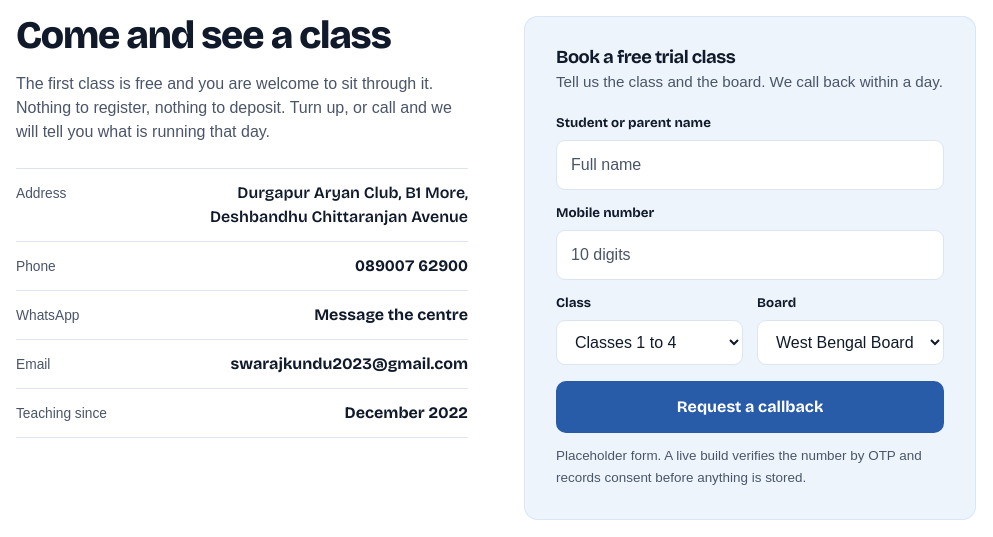
it: VisitAndEnquire › rejects a number shorter than ten digits
In the field labelled "Student or parent name": (750, 165) 556,140 -> 944,190, type "Test Parent"
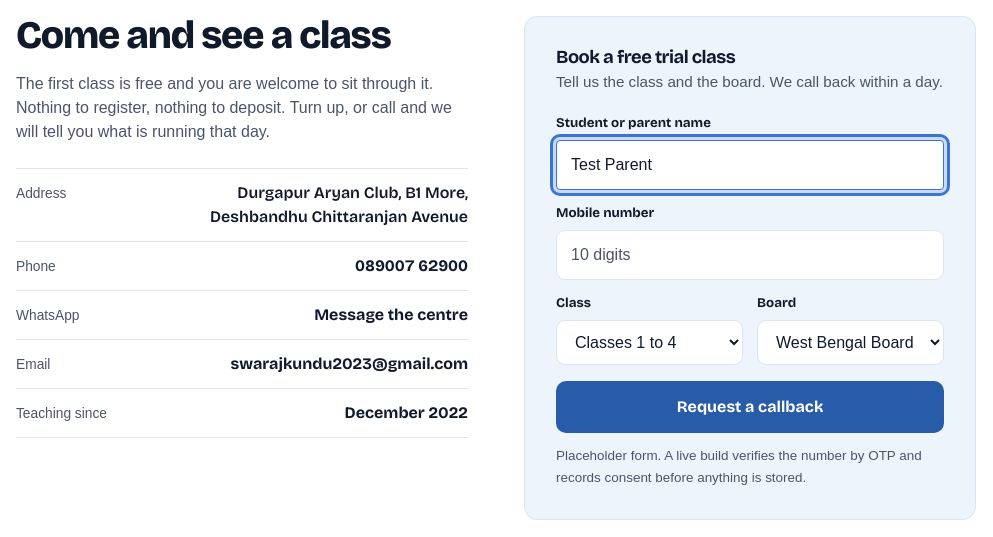
In the field labelled "Mobile number": (750, 255) 556,230 -> 944,280, type "12345"
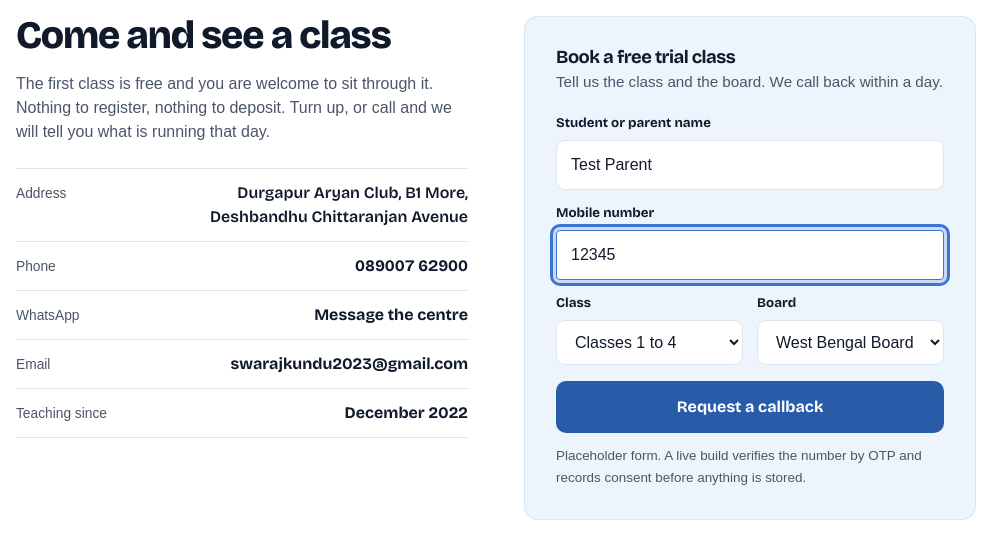
Click the button "Request a callback": (750, 407) 556,381 -> 944,433
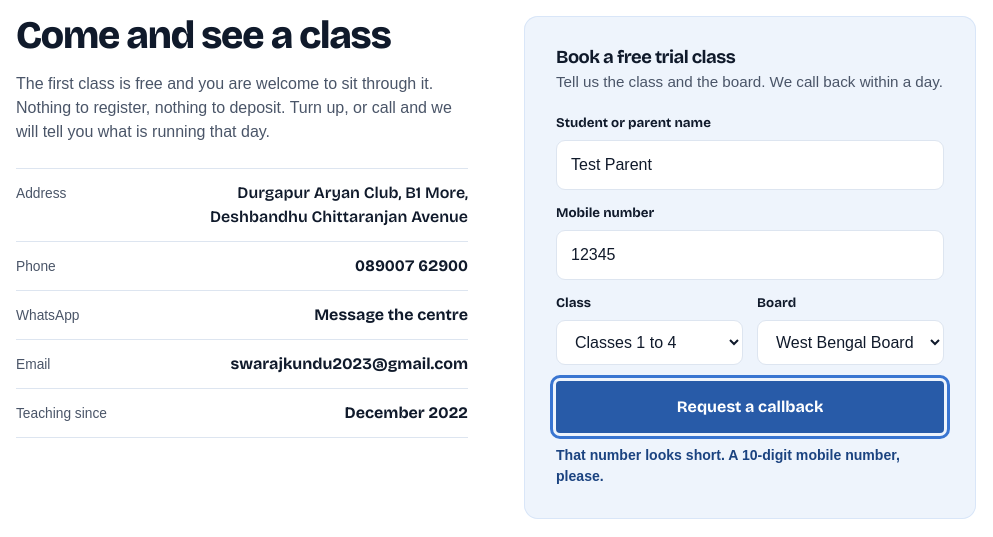
Result: the message shows "looks short" at 556,447 -> 900,484
